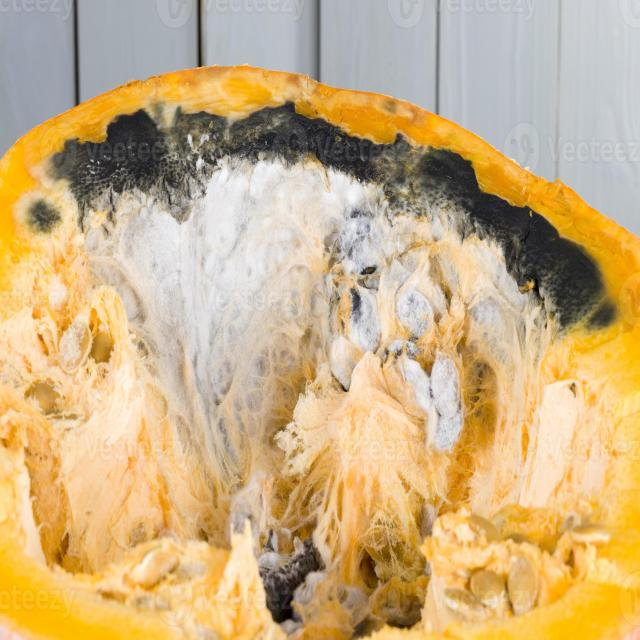Wet Waste: (31, 115, 601, 598)
